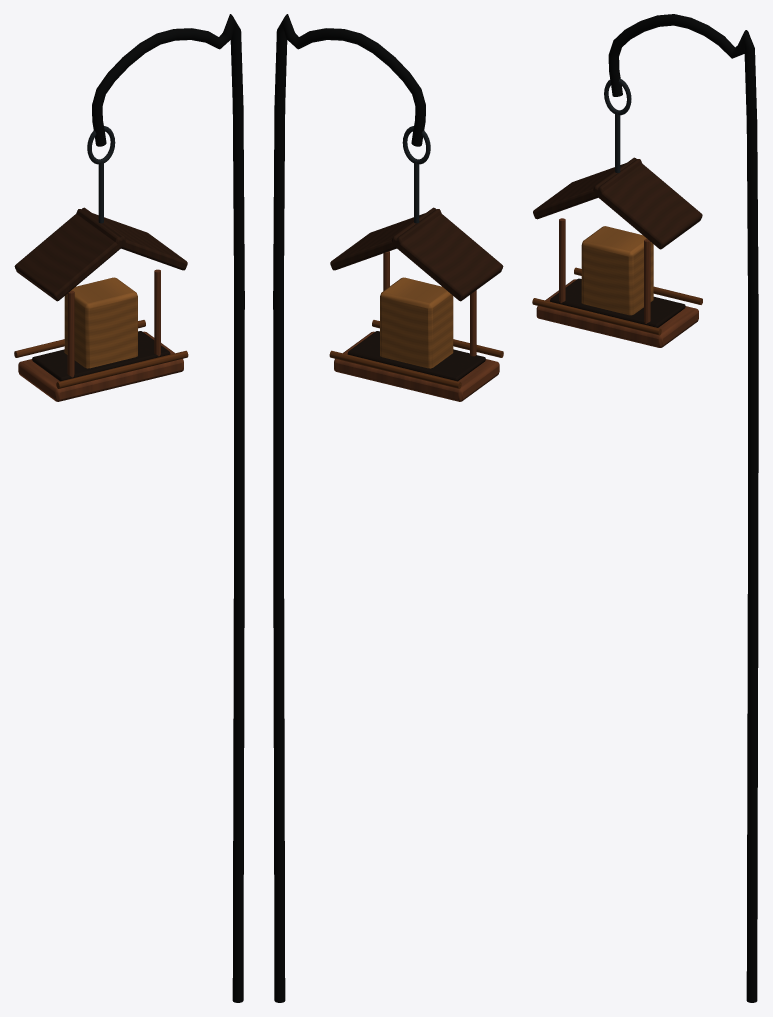
Rendered from BirdFeeder.gltf.
3 renders of one model, left to right at view 1: azimuth 30°, elevation 25°; view 2: azimuth 150°, elevation 25°; view 3: azimuth 330°, elevation 25°, orthographic.
Visible parts, largest first — view 1: BirdFeeder__Body; view 2: BirdFeeder__Body; view 3: BirdFeeder__Body.
Boxes of the visible parts, x1,y1,x2,y2 form: BirdFeeder__Body: [14, 14, 244, 1002]; BirdFeeder__Body: [273, 14, 503, 1002]; BirdFeeder__Body: [532, 14, 758, 1002].
Bounding box in the file's own units: 0.448 × 2.02 × 0.168.
1 material, 1 textured.
